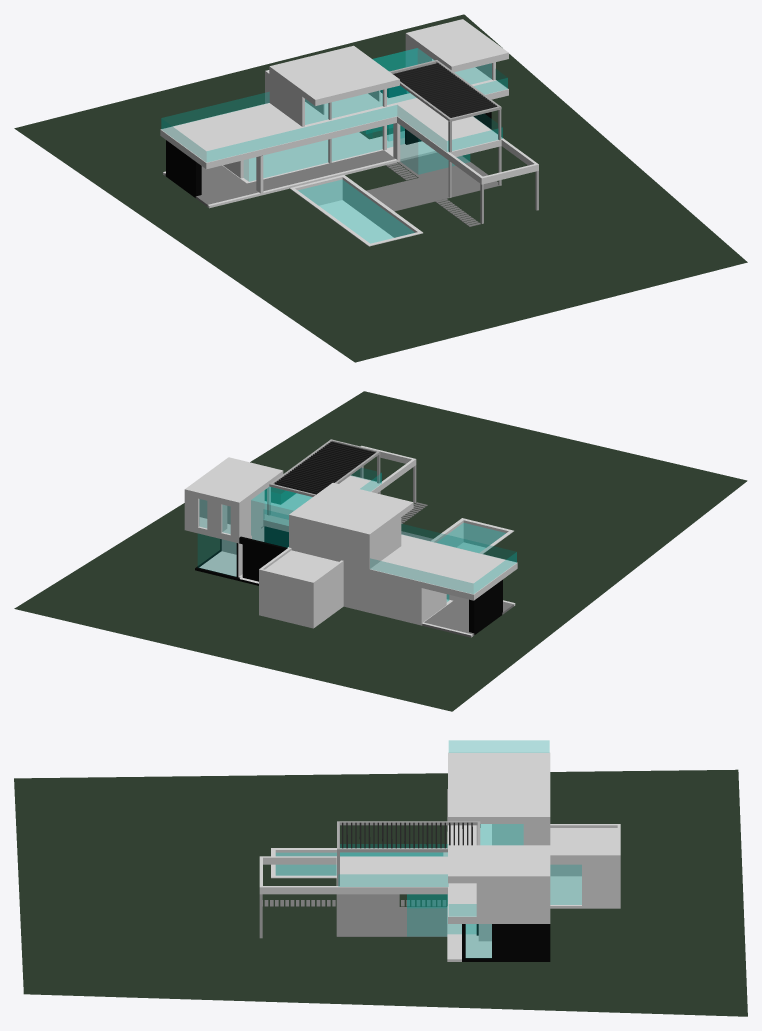
The model's file is house.glb.
3 renders of one model, top to bottom at view 1: azimuth 30°, elevation 25°; view 2: azimuth 150°, elevation 25°; view 3: azimuth 270°, elevation 25°, orthographic. The views are drawn at different scales.
Visible parts, largest first — view 1: LINDERO_curve_.007, PAVIMENTO EXTERIOR_curve_.018, CARPINTERIA_curve_.003, PAVIMENTO EXTERIOR_curve_.011, PAVIMENTO EXTERIOR_curve_.019, PAVIMENTO EXTERIOR_curve_.020, PAVIMENTO EXTERIOR_curve_.022, CARPINTERIA_curve_.004, PROYECC_curve_.004, MUROS_curve_.003, PUNTOS_curve_.003, PILAR DE HORMIGON_curve_.006 (+3 smaller); view 2: LINDERO_curve_.007, PAVIMENTO EXTERIOR_curve_.018, MUROS_curve_.004, PAVIMENTO EXTERIOR_curve_.011, CARPINTERIA_curve_.003, MUROS_curve_.003, PAVIMENTO EXTERIOR_curve_.019, PROYECC_curve_.004, PAVIMENTO EXTERIOR_curve_.020, PUNTOS_curve_.003, PILAR DE HORMIGON_curve_.006; view 3: LINDERO_curve_.007, PAVIMENTO EXTERIOR_curve_.018, PAVIMENTO EXTERIOR_curve_.011, CARPINTERIA_curve_.003, MUROS_curve_.004, PAVIMENTO EXTERIOR_curve_.022, MUROS_curve_.003, LINDERO_curve_.008, PUNTOS_curve_.003, PAVIMENTO EXTERIOR_curve_.019, PAVIMENTO EXTERIOR_curve_.020, PROYECC_curve_.004 (+4 smaller).
Boxes of the visible parts, x1,y1,x2,y2 form: LINDERO_curve_.007: (14, 14, 747, 362); PAVIMENTO EXTERIOR_curve_.018: (160, 67, 538, 184); CARPINTERIA_curve_.003: (161, 48, 507, 162); PAVIMENTO EXTERIOR_curve_.011: (269, 19, 508, 105); PAVIMENTO EXTERIOR_curve_.019: (163, 124, 436, 208); PAVIMENTO EXTERIOR_curve_.020: (289, 175, 422, 246); PAVIMENTO EXTERIOR_curve_.022: (366, 152, 499, 211); CARPINTERIA_curve_.004: (244, 124, 392, 181); PROYECC_curve_.004: (393, 63, 496, 117); MUROS_curve_.003: (269, 39, 495, 126); PUNTOS_curve_.003: (387, 124, 470, 174); PILAR DE HORMIGON_curve_.006: (166, 140, 201, 196); LINDERO_curve_.007: (14, 391, 747, 711); PAVIMENTO EXTERIOR_curve_.018: (184, 445, 517, 600); MUROS_curve_.004: (220, 526, 446, 626); PAVIMENTO EXTERIOR_curve_.011: (184, 457, 413, 540); CARPINTERIA_curve_.003: (199, 468, 516, 593); MUROS_curve_.003: (184, 487, 401, 569); PAVIMENTO EXTERIOR_curve_.019: (195, 550, 515, 637); PROYECC_curve_.004: (274, 441, 375, 494); PAVIMENTO EXTERIOR_curve_.020: (431, 518, 513, 553); PUNTOS_curve_.003: (198, 534, 236, 576); PILAR DE HORMIGON_curve_.006: (469, 579, 502, 633); LINDERO_curve_.007: (14, 769, 747, 1016); PAVIMENTO EXTERIOR_curve_.018: (259, 752, 620, 923); PAVIMENTO EXTERIOR_curve_.011: (448, 771, 550, 883); CARPINTERIA_curve_.003: (338, 740, 549, 916); MUROS_curve_.004: (462, 864, 620, 959); PAVIMENTO EXTERIOR_curve_.022: (337, 894, 447, 936); MUROS_curve_.003: (476, 824, 550, 916); LINDERO_curve_.008: (271, 818, 447, 847); PUNTOS_curve_.003: (407, 894, 491, 957); PAVIMENTO EXTERIOR_curve_.019: (447, 831, 620, 961); PAVIMENTO EXTERIOR_curve_.020: (271, 848, 447, 878); PROYECC_curve_.004: (342, 822, 472, 848).
Bounding box in the file's own units: 186 × 40.9 × 233.
